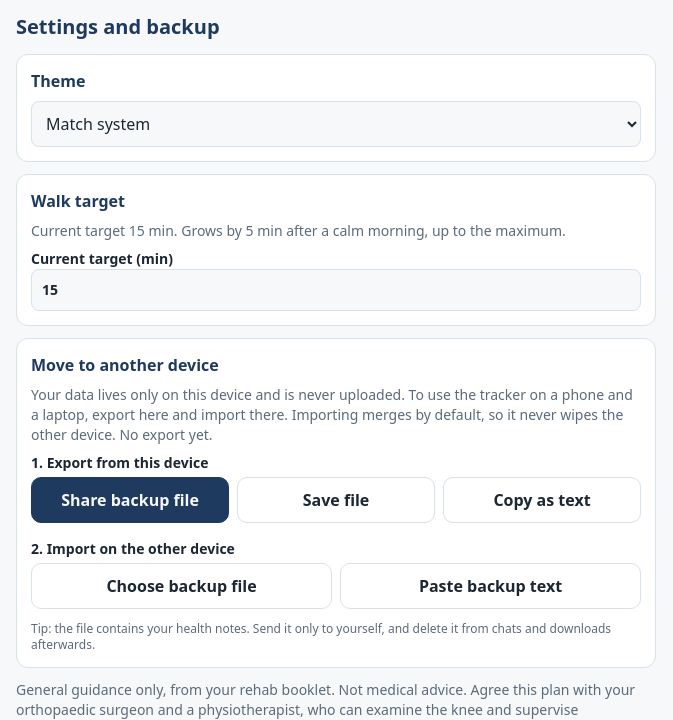
Test case: Settings: move to another device › rejects text that is not a backup
This screenshot has width=673, height=720.
Click the button "Paste backup text". click: x=490, y=586
box: [340,563,641,609]
(page scrolled)
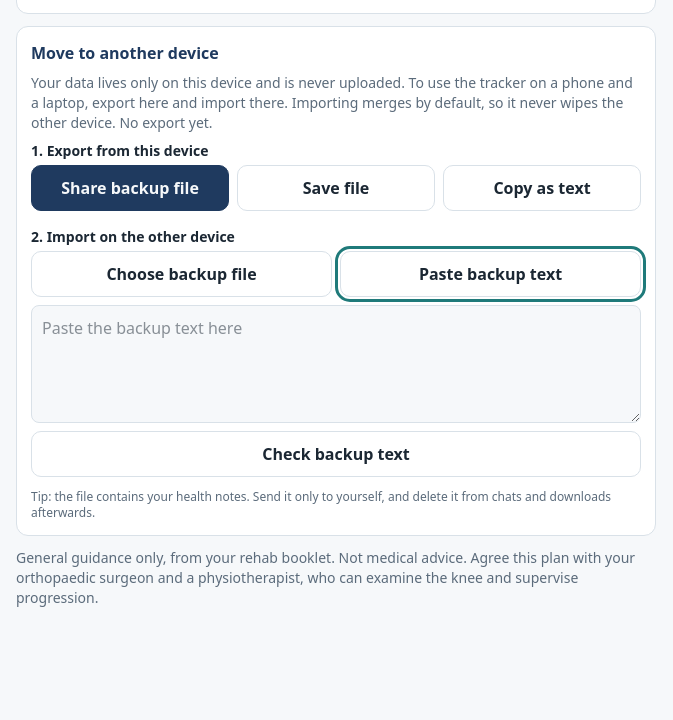
Click the text box labelled "backup text". click: x=336, y=364
box: [31,305,641,423]
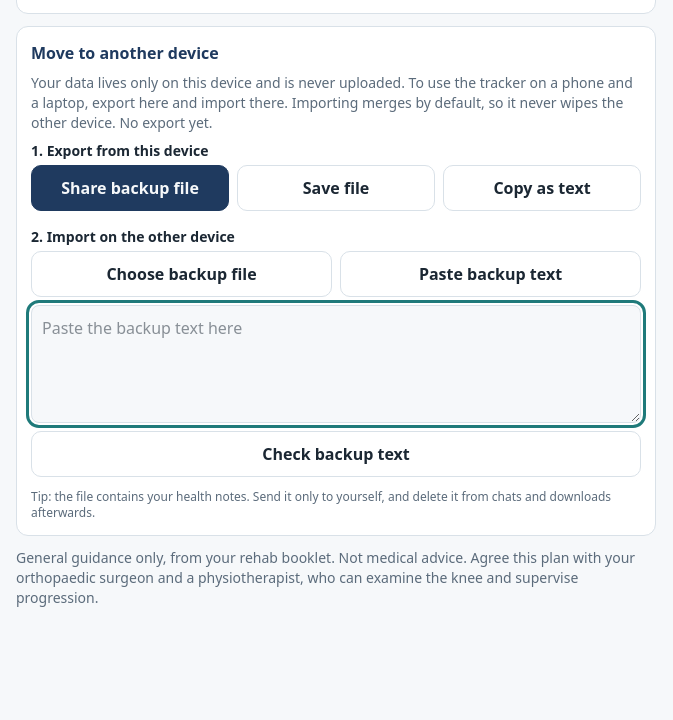
Type keys "hello"
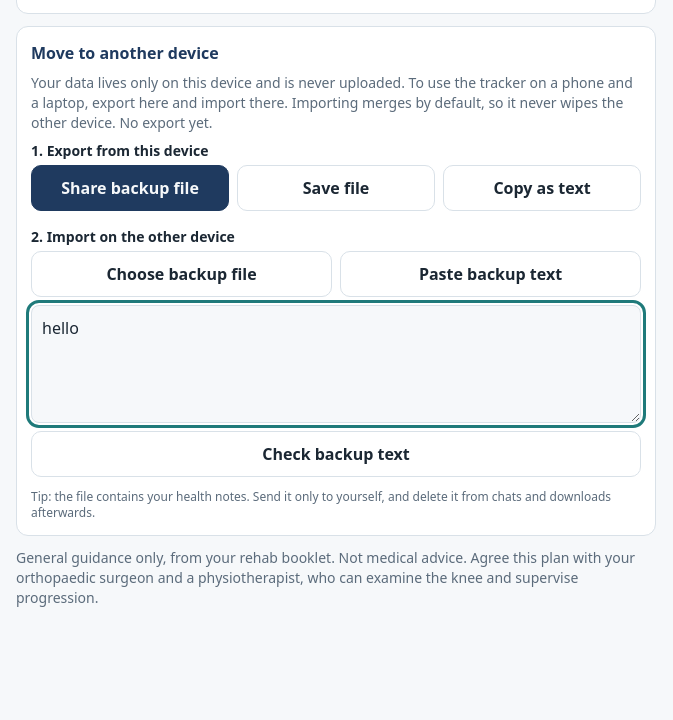
Click the button "Check backup text". click: x=336, y=454
box: [31,431,641,477]
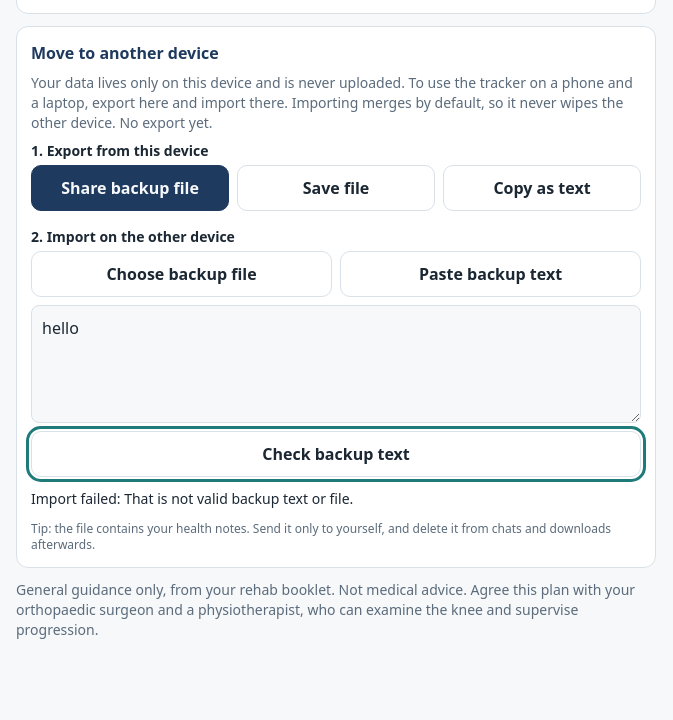
Expected: the text "Import failed: That is not valid backup text or file." is shown, [31,489,353,508]
